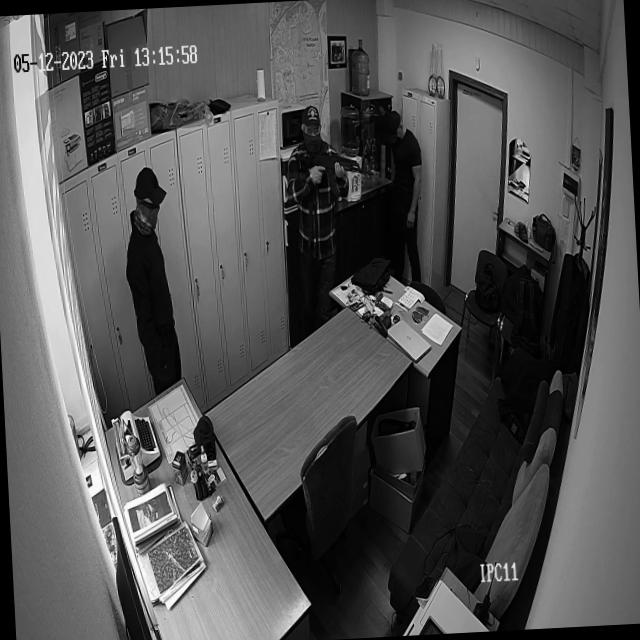gun: (296, 142, 374, 198)
person: (122, 166, 184, 396), (386, 111, 430, 275)
person with a gun: (289, 106, 382, 336)
